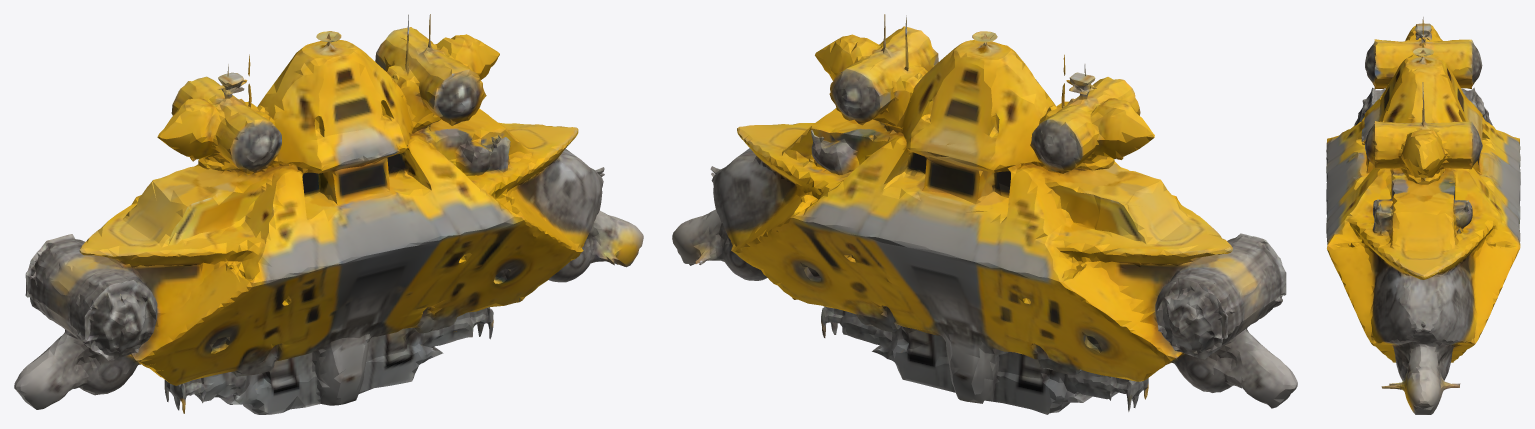
Rendered from mining_frigate.glb.
3 renders of one model, left to right at view 1: azimuth 30°, elevation 25°; view 2: azimuth 150°, elevation 25°; view 3: azimuth 270°, elevation 25°, orthographic. The views are drawn at different scales.
Parts seen in each view (by area): view 1: mining_frigate; view 2: mining_frigate; view 3: mining_frigate.
Boxes of the visible parts, <box> form: mining_frigate: <box>14,14,643,414</box>; mining_frigate: <box>672,14,1297,414</box>; mining_frigate: <box>1326,17,1520,414</box>.
Size of the model in its own units: 1.89 by 1.04 by 0.6202.
1 material, 1 textured.
